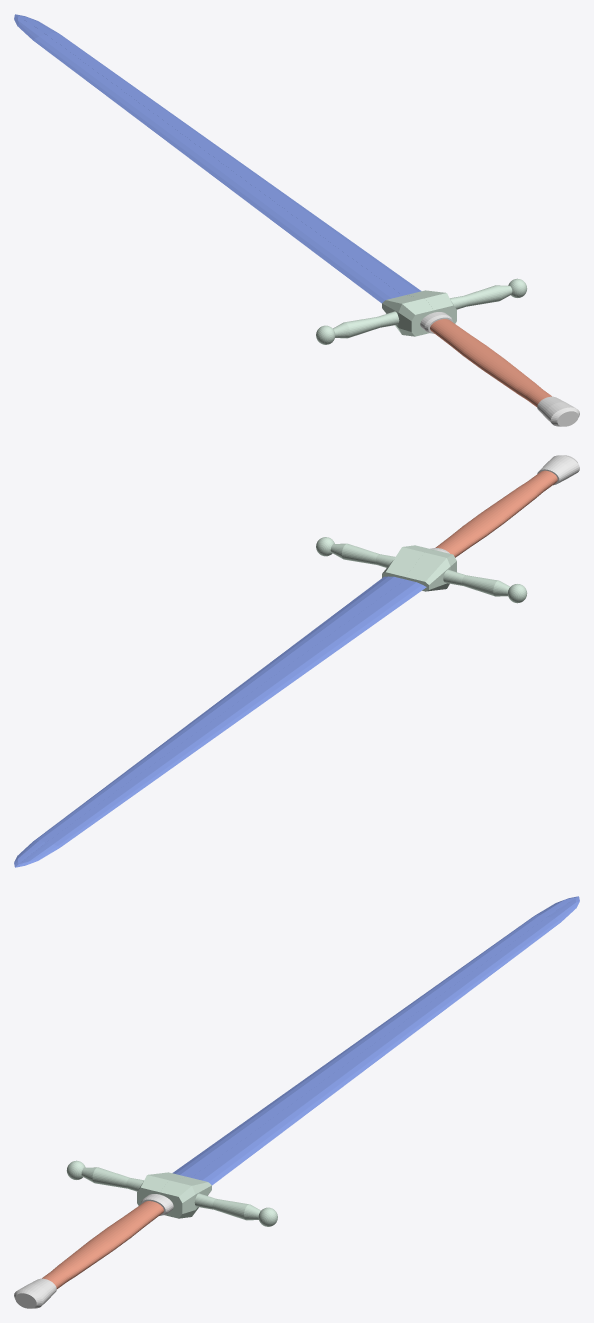
Rendered from sword01.fbx.
3 renders of one model, top to bottom at view 1: azimuth 30°, elevation 25°; view 2: azimuth 150°, elevation 25°; view 3: azimuth 330°, elevation 25°, orthographic.
Visible parts, largest first — view 1: part4; view 2: part4; view 3: part4.
Part boxes in pixels (left/top/right/bottom): part4: left=14, top=14, right=579, bottom=426; part4: left=14, top=455, right=579, bottom=867; part4: left=14, top=896, right=579, bottom=1308.
Size of the model in its own units: 1270 by 181 by 5830.
